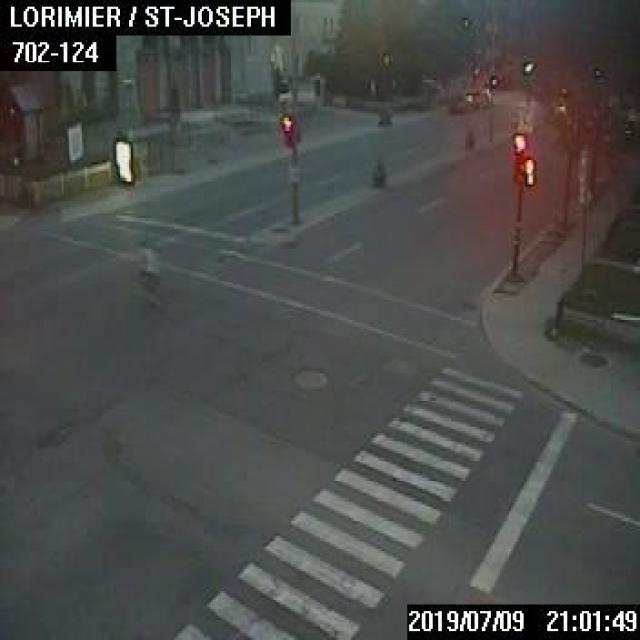vehicle: (134, 240, 164, 308), (446, 92, 476, 113), (475, 87, 490, 105)
